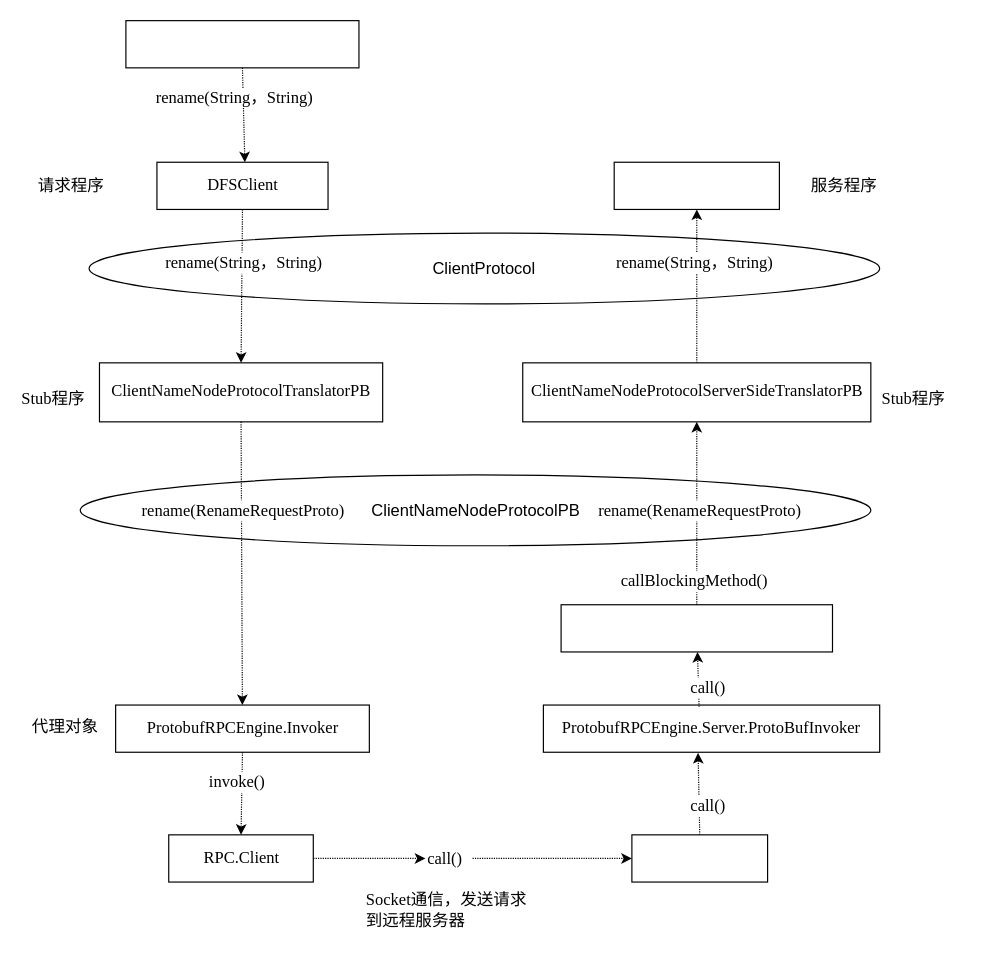
Some shapes in this 981 by 953 pixel diagram are drawn without their labels. Each missing label, with the centre of its shape:
BlockingService: [696,628]
DistributedFileSystem: [242,43]
NameNodeRPCServer: [696,185]
RPC.Server: [699,858]
